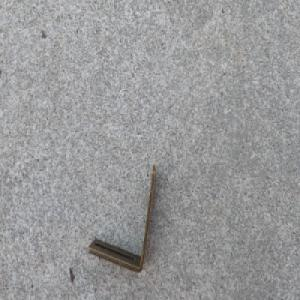MetalPart: (85, 163, 157, 275)
